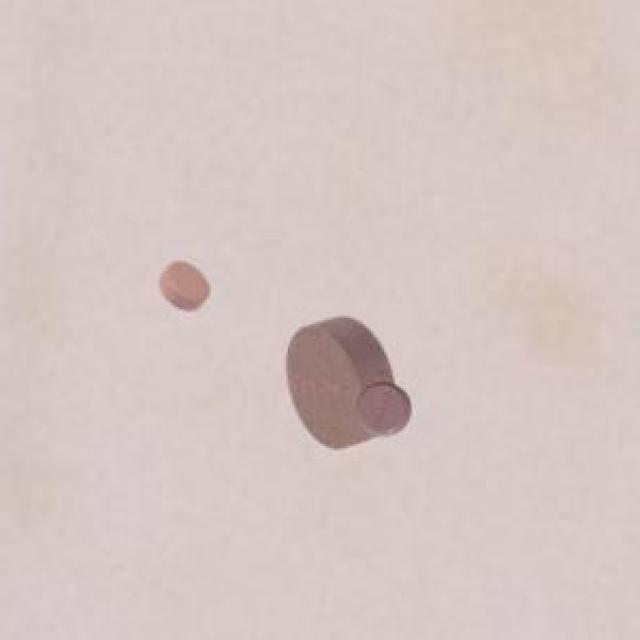Kremil_S: (280, 307, 422, 466), (150, 252, 224, 320)
